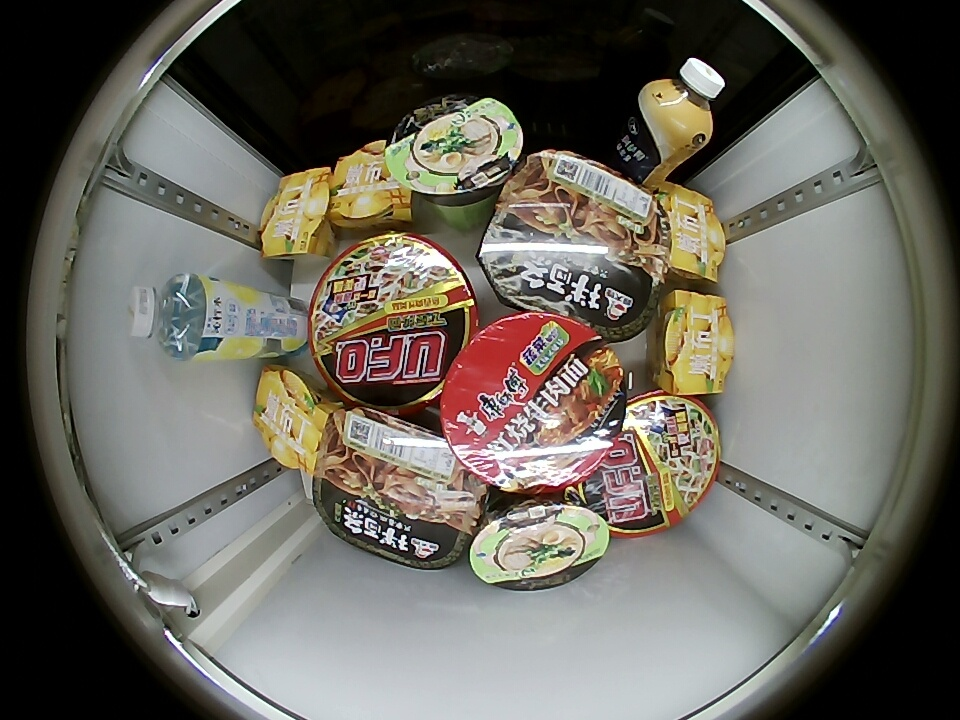asamu: (644, 58, 726, 140)
buding: (252, 365, 333, 471), (654, 290, 735, 394), (330, 140, 411, 227), (655, 183, 727, 280), (259, 168, 332, 258)
gudasao: (475, 149, 672, 341), (312, 407, 489, 570)
hongshaoniurou: (440, 311, 628, 492)
qinningshui: (126, 272, 213, 360)
tangdaren: (386, 95, 524, 207), (466, 493, 613, 592)
ufo2: (308, 232, 479, 410), (565, 392, 720, 538)
